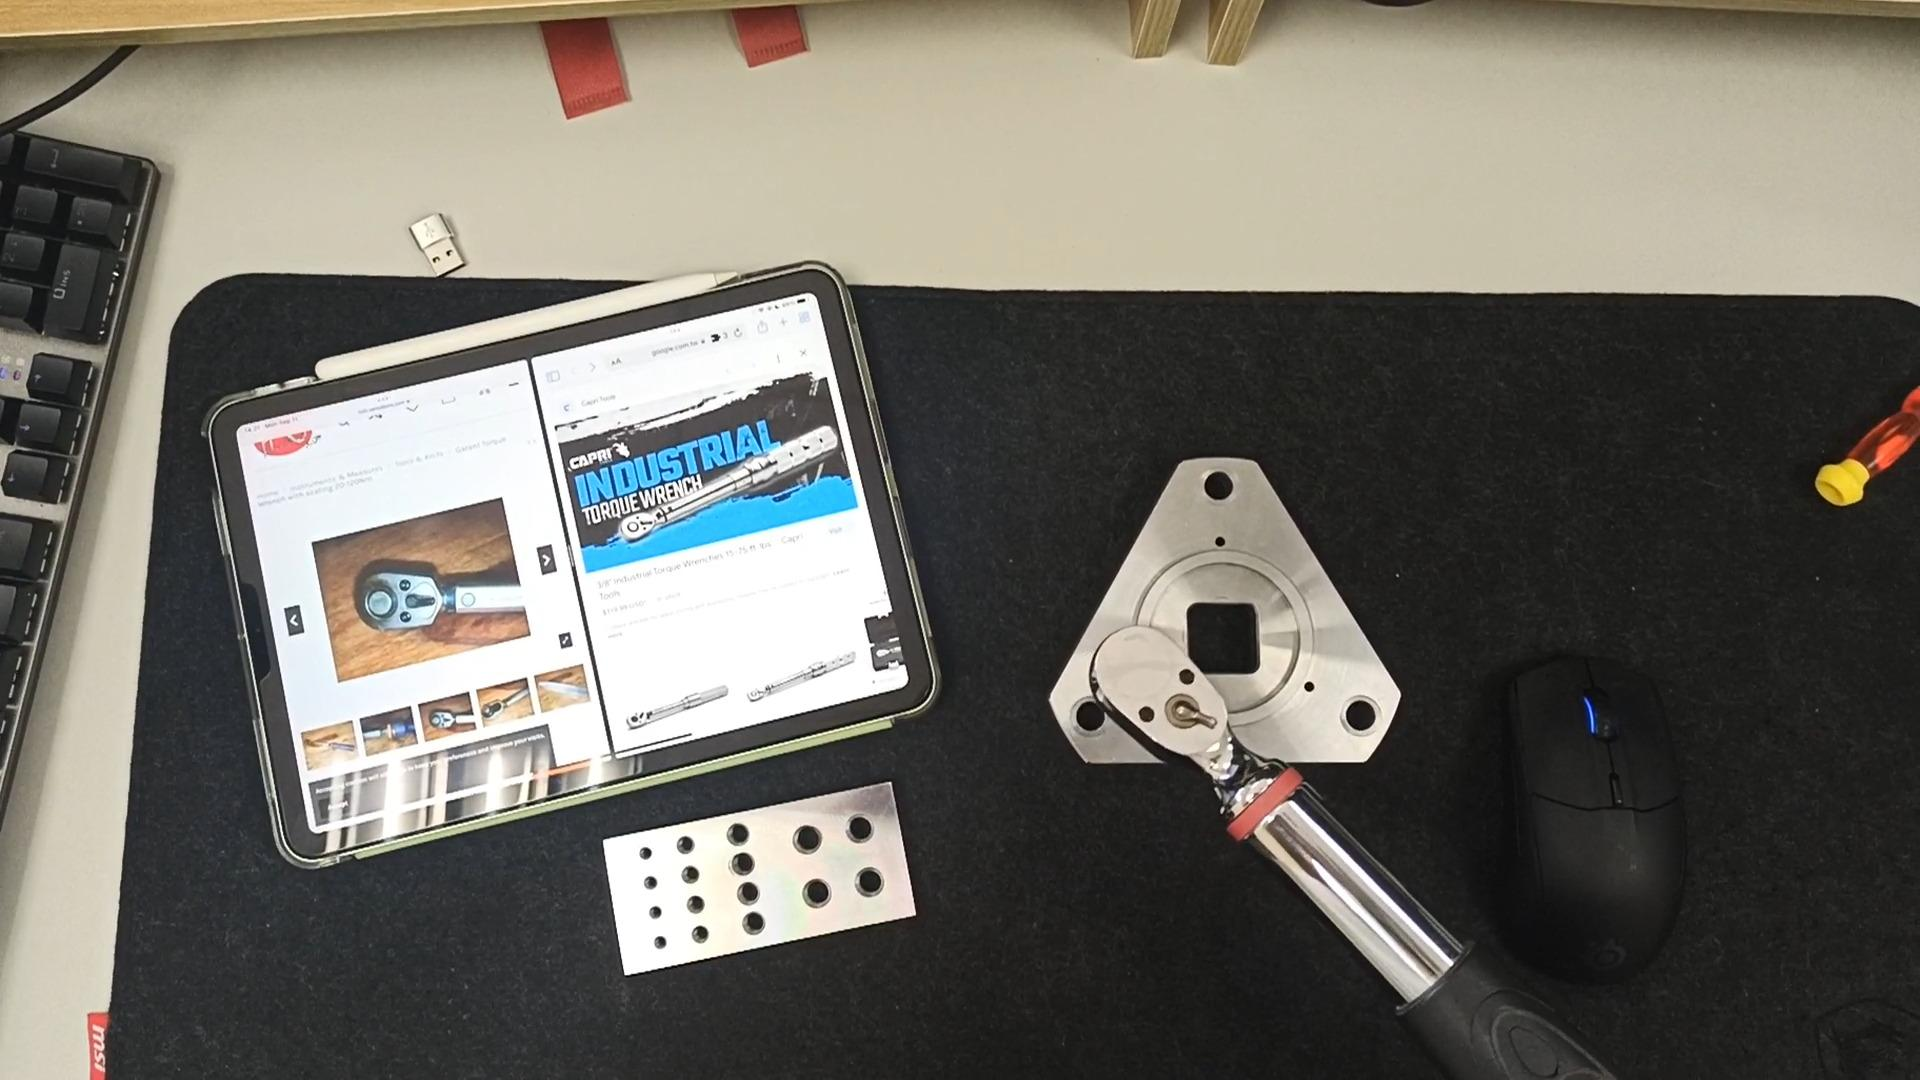Tool: (1073, 628, 1246, 789), (352, 567, 445, 638), (621, 512, 665, 549), (431, 706, 457, 739)
hole: (1323, 696, 1393, 744), (1185, 470, 1248, 513), (1069, 686, 1113, 745), (837, 865, 894, 904), (825, 813, 883, 848), (789, 876, 842, 911), (778, 826, 830, 860), (711, 821, 759, 849), (725, 880, 770, 908), (729, 913, 774, 939), (717, 853, 763, 878), (666, 838, 704, 860), (674, 865, 710, 886), (679, 898, 715, 919), (684, 927, 719, 946), (624, 846, 657, 864), (639, 874, 671, 892), (645, 907, 674, 924), (649, 935, 677, 951)
